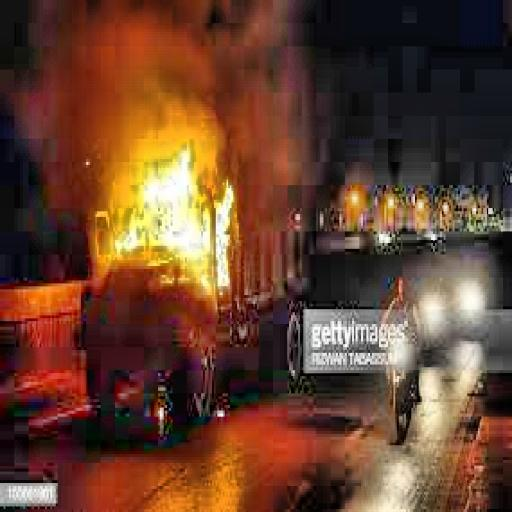fire: (81, 113, 242, 315)
